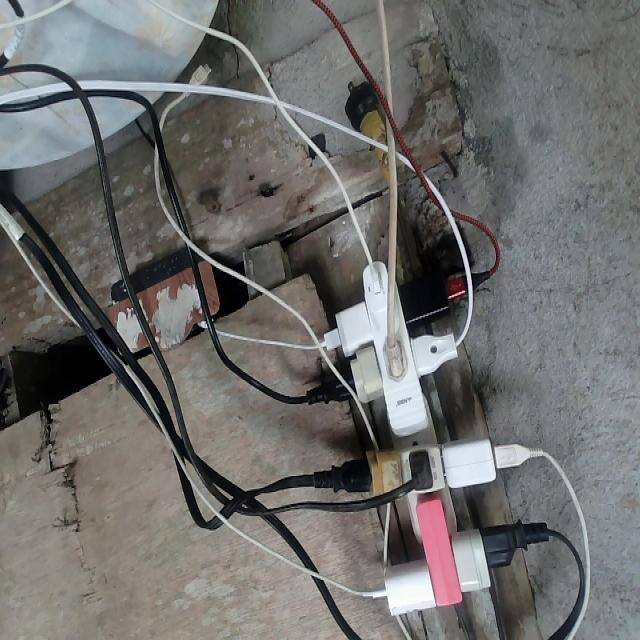-: (284, 212, 601, 627)
